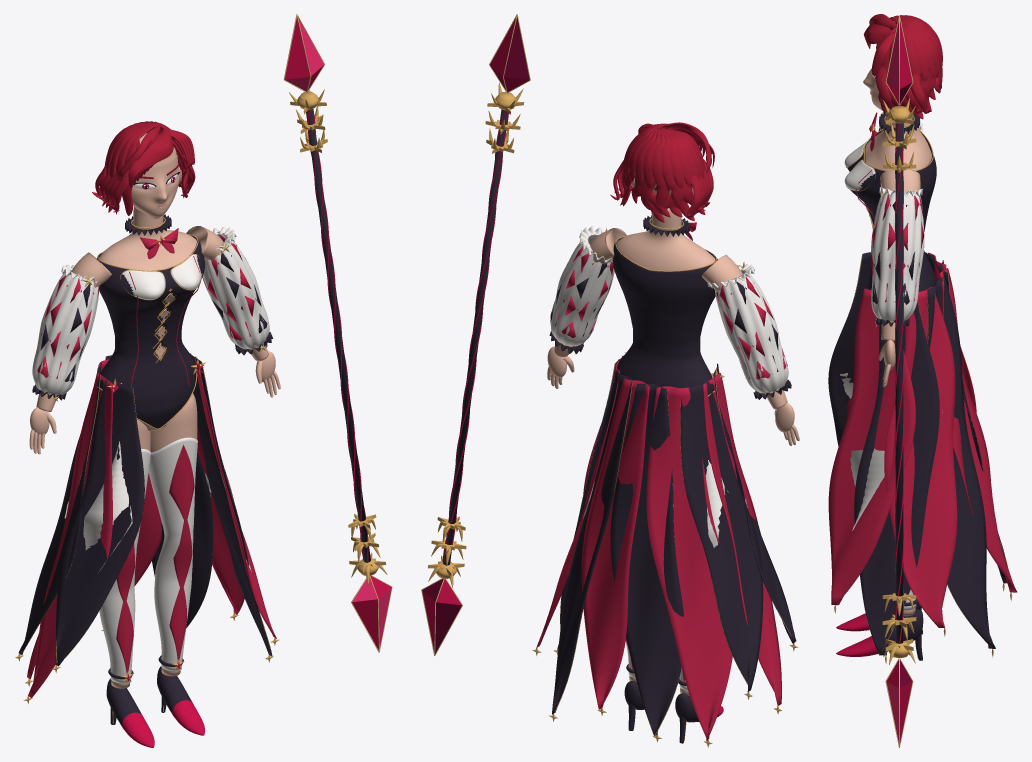
The model's file is pierrot_study.glb.
The picture shows the model from 3 angles, left to right: view 1: azimuth 30°, elevation 25°; view 2: azimuth 150°, elevation 25°; view 3: azimuth 270°, elevation 25°; orthographic projection. The views are drawn at different scales.
Parts seen in each view (by area): view 1: Coat_tail_09, Corset_seamed_panels, Stocking_R, Hair_Unified_Sculpt, Coat_tail_08, Sleeve_ivory_L, Sleeve_ivory_R, Coat_tail_01, Body_Torso_Neck, Coat_tail_07, Lance_shaft, Coat_tail_03 (+19 smaller); view 2: Coat_tail_06, Coat_tail_05, Coat_tail_07, Coat_tail_04, Corset_seamed_panels, Hair_Unified_Sculpt, Coat_tail_03, Sleeve_ivory_L, Coat_tail_08, Sleeve_ivory_R, Body_Torso_Neck, Lance_shaft (+8 smaller); view 3: Coat_tail_00, Coat_tail_02, Coat_tail_01, Coat_tail_03, Hair_Unified_Sculpt, Sleeve_ivory_R, Lance_shaft, Coat_tail_04, Coat_tail_09, Corset_seamed_panels, Body_Torso_Neck, Lance_ruby_blade_1 (+11 smaller).
Part boxes in pixels (box(x1,y1,x2,y2)): Coat_tail_09: box(55, 379, 144, 666); Corset_seamed_panels: box(96, 235, 204, 428); Stocking_R: box(148, 437, 197, 670); Hair_Unified_Sculpt: box(92, 121, 195, 215); Coat_tail_08: box(28, 372, 112, 697); Sleeve_ivory_L: box(32, 267, 99, 396); Sleeve_ivory_R: box(202, 231, 269, 349); Coat_tail_01: box(190, 354, 272, 656); Body_Torso_Neck: box(99, 206, 196, 431); Coat_tail_07: box(18, 362, 101, 654); Lance_shaft: box(306, 109, 370, 562); Coat_tail_03: box(152, 452, 213, 627); Coat_tail_06: box(646, 386, 732, 740); Coat_tail_05: box(610, 383, 683, 735); Coat_tail_07: box(680, 381, 763, 691); Coat_tail_04: box(581, 378, 649, 709); Corset_seamed_panels: box(612, 237, 717, 392); Hair_Unified_Sculpt: box(610, 122, 714, 222); Coat_tail_03: box(552, 369, 632, 714); Sleeve_ivory_L: box(715, 270, 788, 394); Coat_tail_08: box(703, 373, 781, 705); Sleeve_ivory_R: box(550, 235, 614, 346); Body_Torso_Neck: box(617, 208, 715, 270); Lance_shaft: box(443, 109, 508, 565); Coat_tail_00: box(828, 288, 915, 605); Coat_tail_02: box(884, 287, 957, 627); Coat_tail_01: box(854, 301, 939, 655); Coat_tail_03: box(927, 277, 995, 648); Hair_Unified_Sculpt: box(863, 14, 942, 119); Sleeve_ivory_R: box(871, 192, 924, 322); Lance_shaft: box(895, 123, 903, 643); Coat_tail_04: box(939, 268, 1017, 592); Coat_tail_09: box(828, 252, 871, 446); Corset_seamed_panels: box(847, 129, 936, 291); Body_Torso_Neck: box(865, 116, 931, 170); Lance_ruby_blade_1: box(886, 20, 912, 103).
Bounding box in the file's own units: 1.19 × 2.07 × 0.5027.
